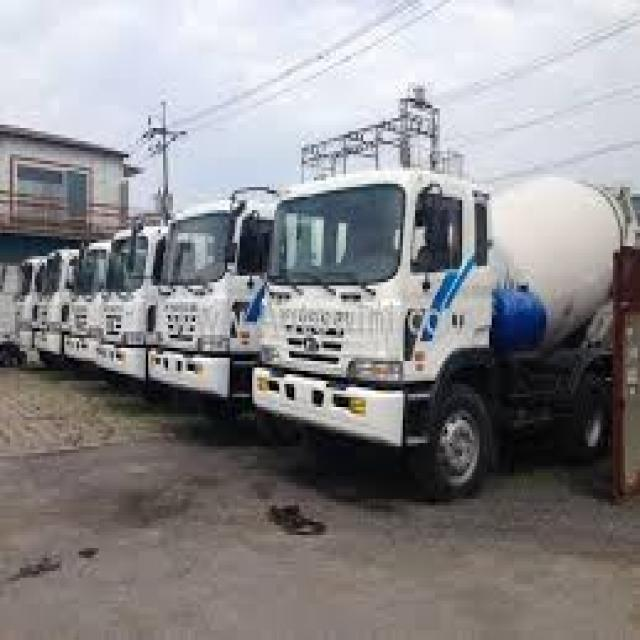Mixer Truck: (250, 165, 640, 496), (150, 191, 325, 423), (95, 220, 180, 404), (64, 235, 116, 382), (33, 249, 81, 372), (13, 256, 49, 367)
